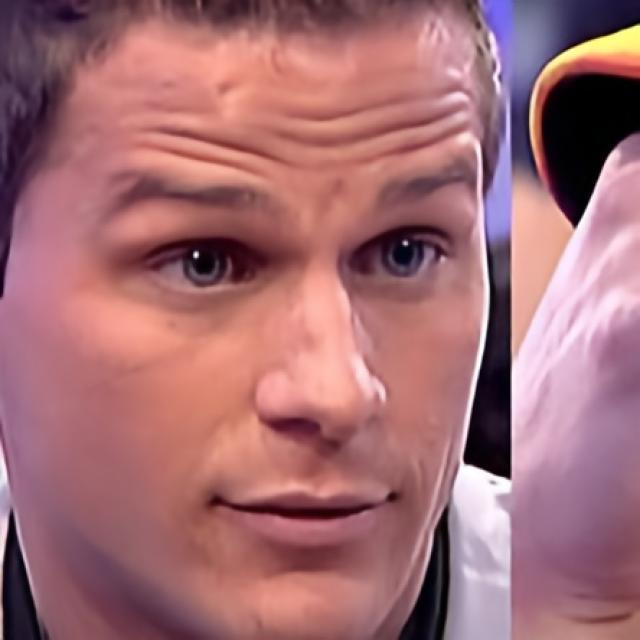surprise: (1, 8, 490, 640)
